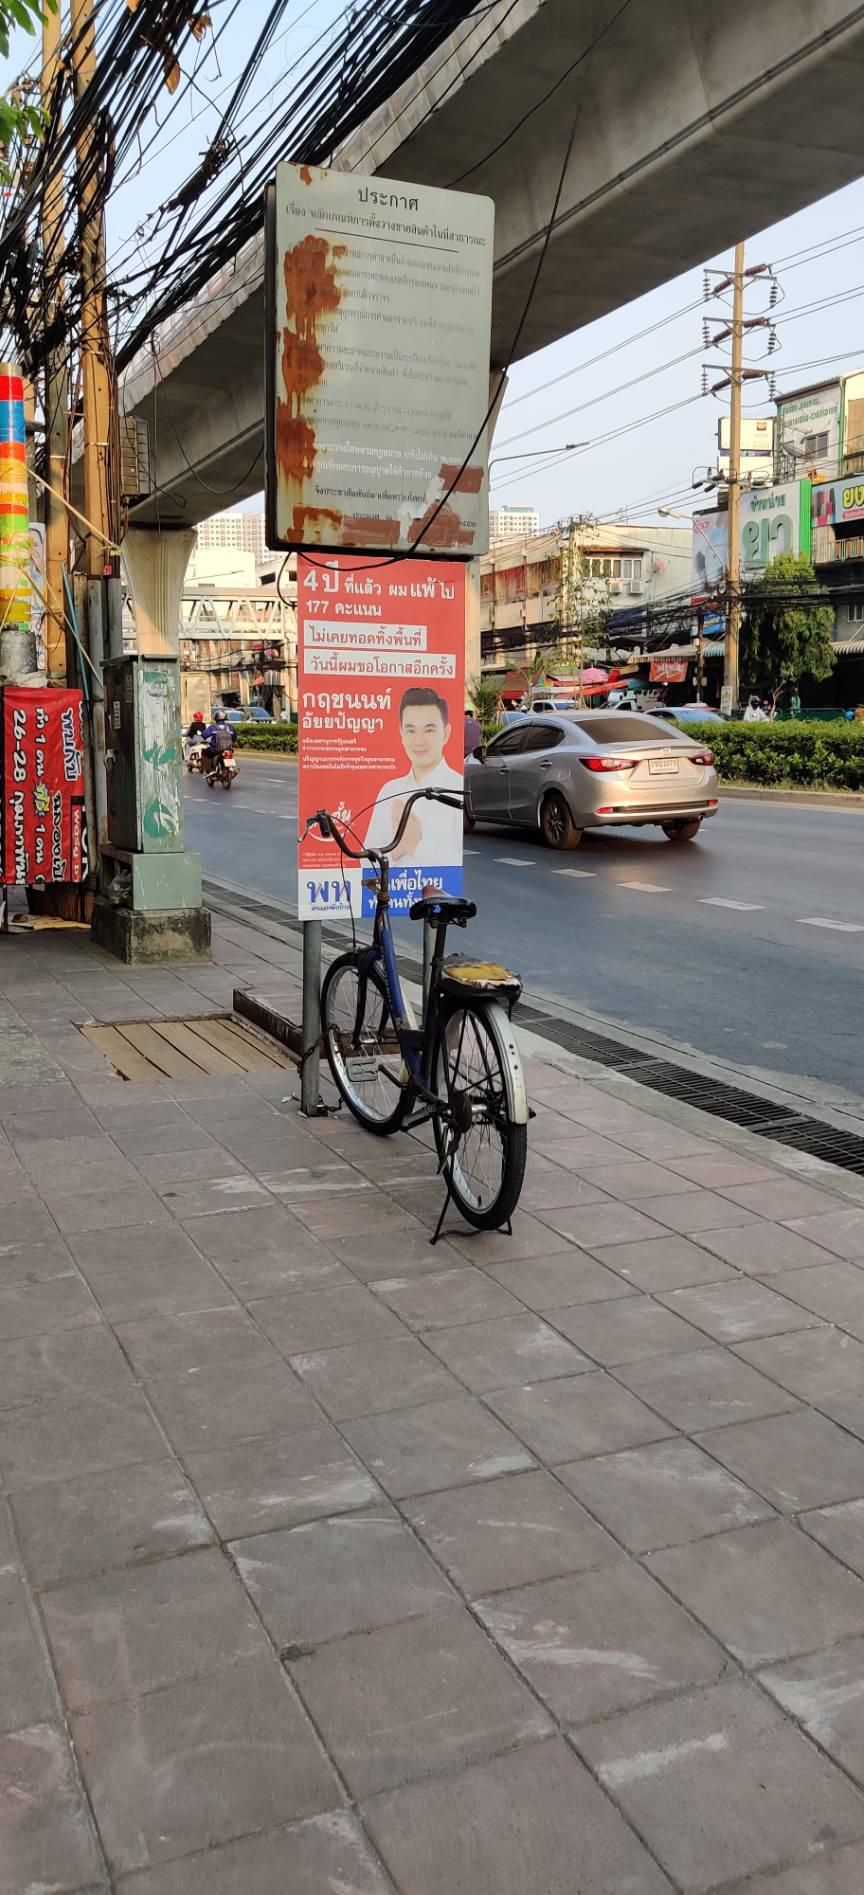Banner: (282, 543, 471, 918)
